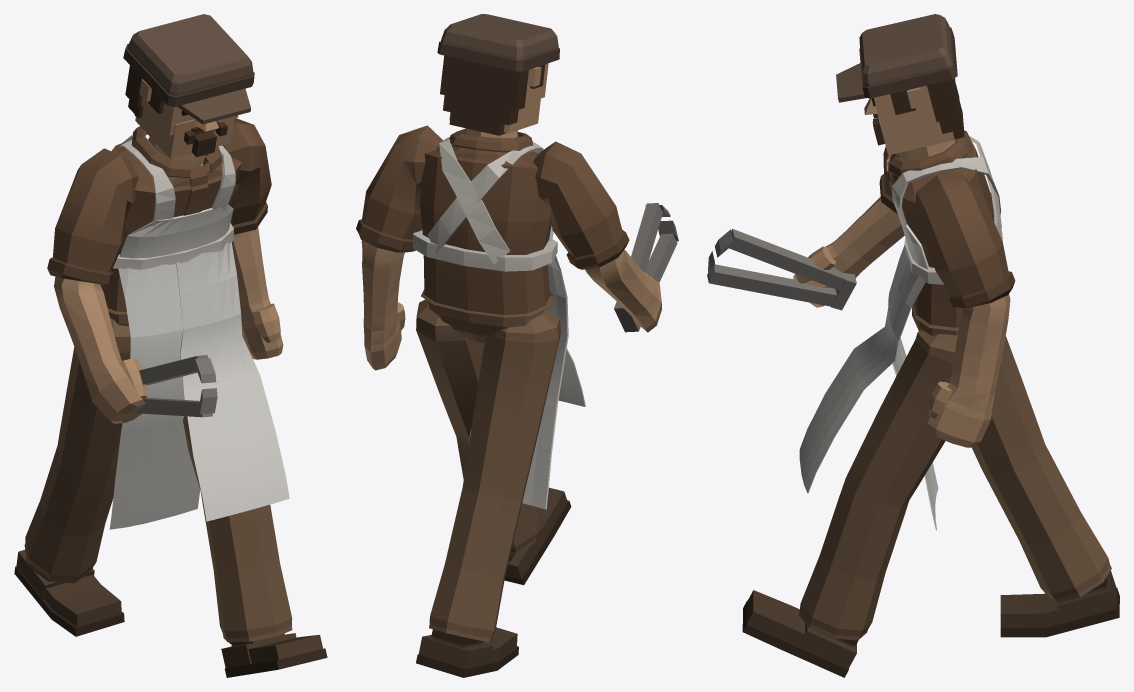
Rendered from street-vendor-139de3__walk0.glb.
The picture shows the model from 3 angles, left to right: view 1: azimuth 30°, elevation 25°; view 2: azimuth 150°, elevation 25°; view 3: azimuth 270°, elevation 25°; orthographic projection. The views are drawn at different scales.
Visible parts, largest first — view 1: street-vendor-139de3__walk0; view 2: street-vendor-139de3__walk0; view 3: street-vendor-139de3__walk0.
Boxes of the visible parts, x1,y1,x2,y2 form: street-vendor-139de3__walk0: (14,14,327,677); street-vendor-139de3__walk0: (356,14,678,677); street-vendor-139de3__walk0: (707,14,1119,677).
Bounding box in the file's own units: 0.7004 × 1.69 × 1.02.
